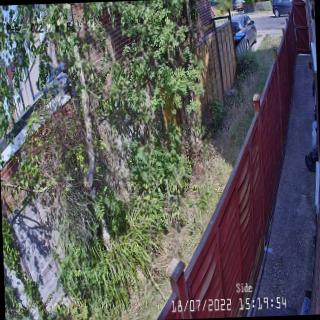car: (232, 12, 259, 50), (271, 0, 292, 17)
truck: (236, 0, 245, 11)
